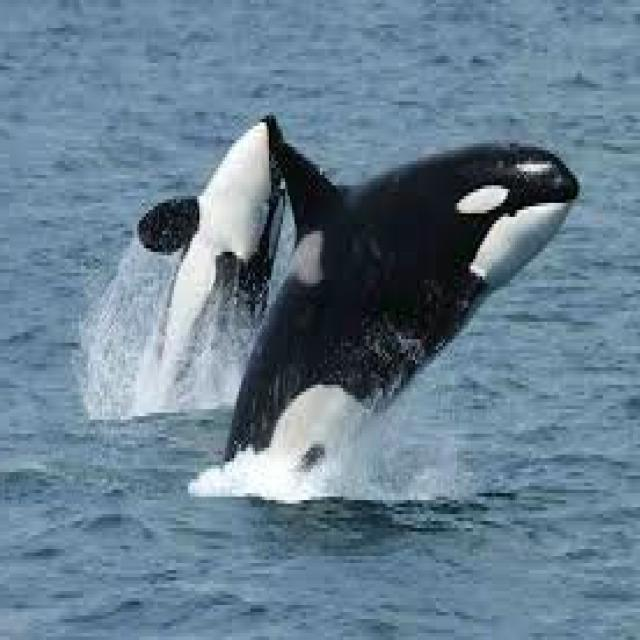whale: (139, 115, 580, 458)
